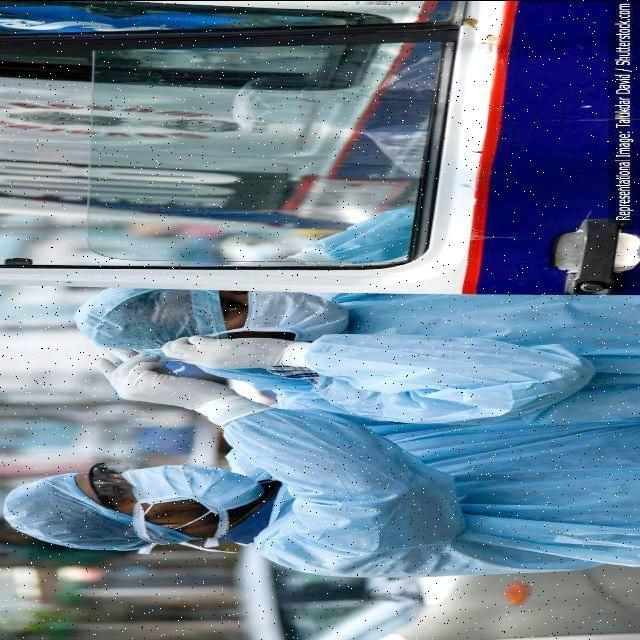apron: (109, 360, 243, 450), (146, 330, 300, 382)
mask: (130, 467, 254, 518), (242, 283, 326, 332)
